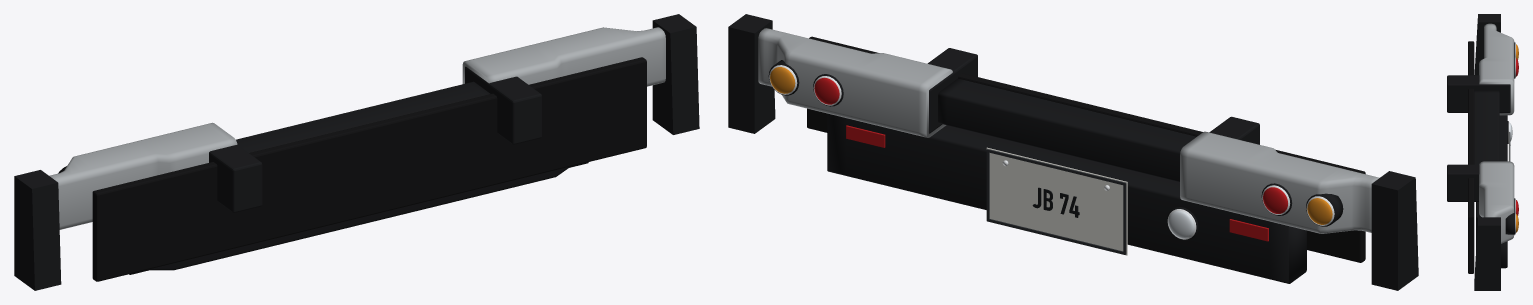
The model's file is rearBumper_damd_little_b_rear.glb.
3 renders of one model, left to right at view 1: azimuth 30°, elevation 25°; view 2: azimuth 150°, elevation 25°; view 3: azimuth 270°, elevation 25°, orthographic. The views are drawn at different scales.
Visible parts, largest first — view 1: valance.026, endBox-1.003, endBox1.003, extension-1.001, extension1.001, middle.002, lower.007, mount1.024, mount-1.024; view 2: lower.007, middle.002, endBox-1.003, endBox1.003, plate.029, extension-1.001, extension1.001, valance.026, mount1.024, mount-1.024, reflector-1.003, reflector1.003 (+8 smaller); view 3: endBox1.003, endBox-1.003, middle.002, extension1.001, mount-1.024, valance.026, mount1.024, lower.007, extension-1.001, lampCan1a.002.
Part boxes in pixels (x1=…): valance.026: x1=92, y1=57, x2=646, y2=281; endBox-1.003: x1=49, y1=122, x2=237, y2=229; endBox1.003: x1=462, y1=27, x2=665, y2=86; extension-1.001: x1=14, y1=170, x2=61, y2=290; extension1.001: x1=652, y1=14, x2=699, y2=134; middle.002: x1=236, y1=81, x2=490, y2=152; lower.007: x1=129, y1=162, x2=588, y2=274; mount1.024: x1=465, y1=66, x2=541, y2=144; mount-1.024: x1=209, y1=145, x2=262, y2=212; lower.007: x1=827, y1=113, x2=1306, y2=283; middle.002: x1=938, y1=78, x2=1196, y2=181; endBox-1.003: x1=1180, y1=131, x2=1379, y2=233; endBox1.003: x1=758, y1=28, x2=952, y2=137; plate.029: x1=986, y1=147, x2=1127, y2=255; extension-1.001: x1=1371, y1=171, x2=1418, y2=290; extension1.001: x1=728, y1=14, x2=775, y2=133; valance.026: x1=807, y1=36, x2=1365, y2=262; mount1.024: x1=927, y1=48, x2=977, y2=133; mount-1.024: x1=1209, y1=116, x2=1259, y2=144; reflector-1.003: x1=1229, y1=219, x2=1268, y2=241; reflector1.003: x1=846, y1=125, x2=885, y2=147; endBox1.003: x1=1479, y1=161, x2=1514, y2=243; endBox-1.003: x1=1479, y1=23, x2=1514, y2=115; middle.002: x1=1474, y1=90, x2=1499, y2=164; extension1.001: x1=1474, y1=217, x2=1500, y2=290; mount-1.024: x1=1447, y1=75, x2=1510, y2=112; valance.026: x1=1468, y1=41, x2=1474, y2=273; mount1.024: x1=1447, y1=164, x2=1479, y2=201; lower.007: x1=1476, y1=115, x2=1507, y2=268; extension-1.001: x1=1474, y1=14, x2=1500, y2=75; lampCan1a.002: x1=1505, y1=212, x2=1515, y2=234.
Bounding box in the file's own units: 1.57 × 0.2805 × 0.2247.
